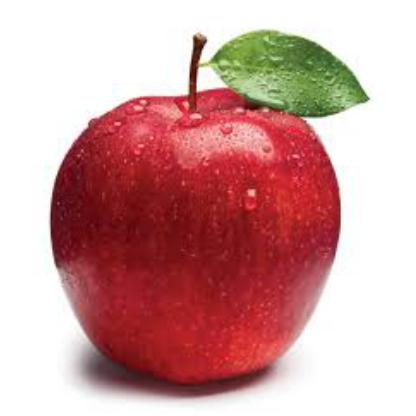apple: (75, 0, 346, 386)
